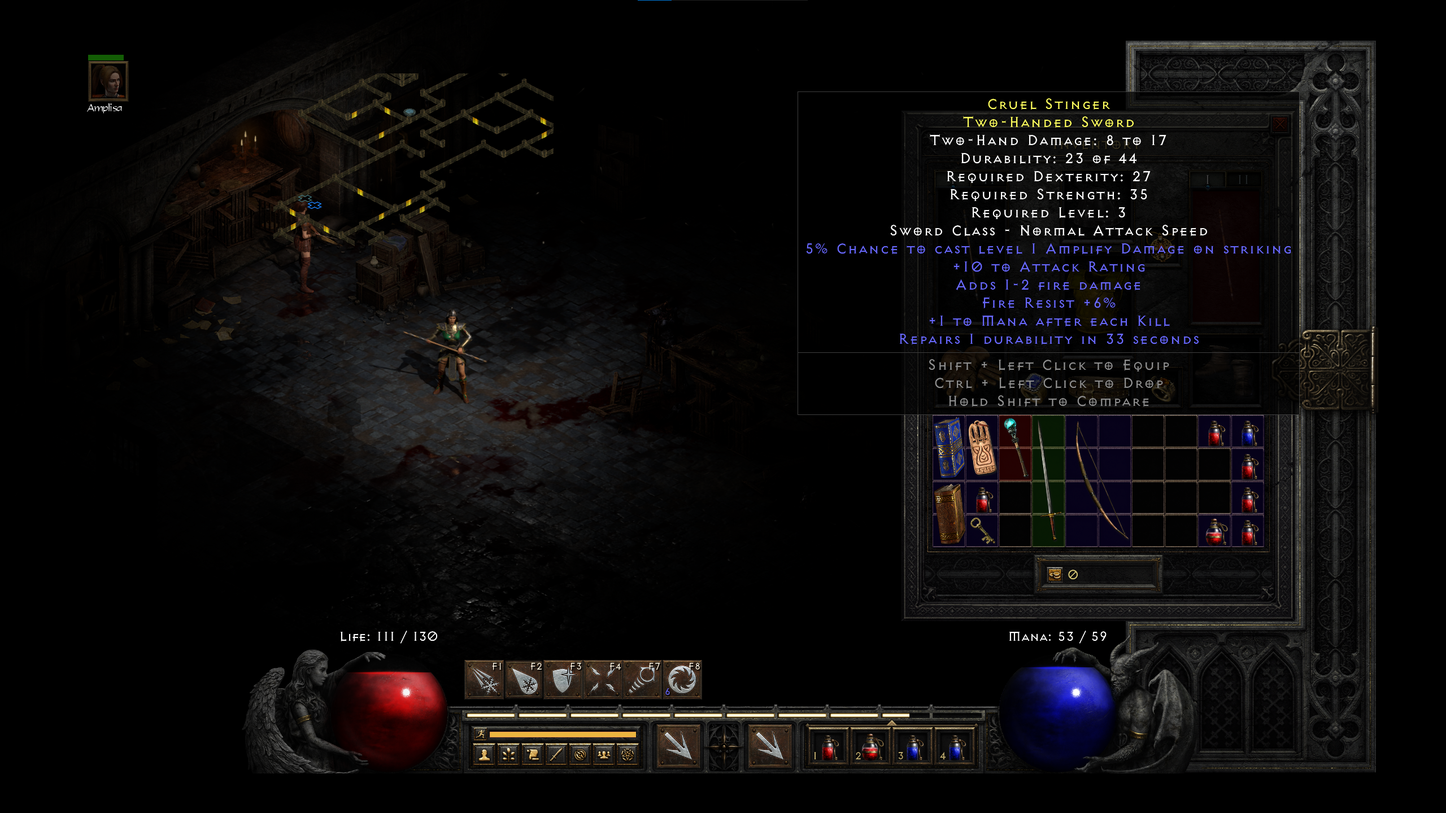tooltip: (798, 91, 1300, 415)
